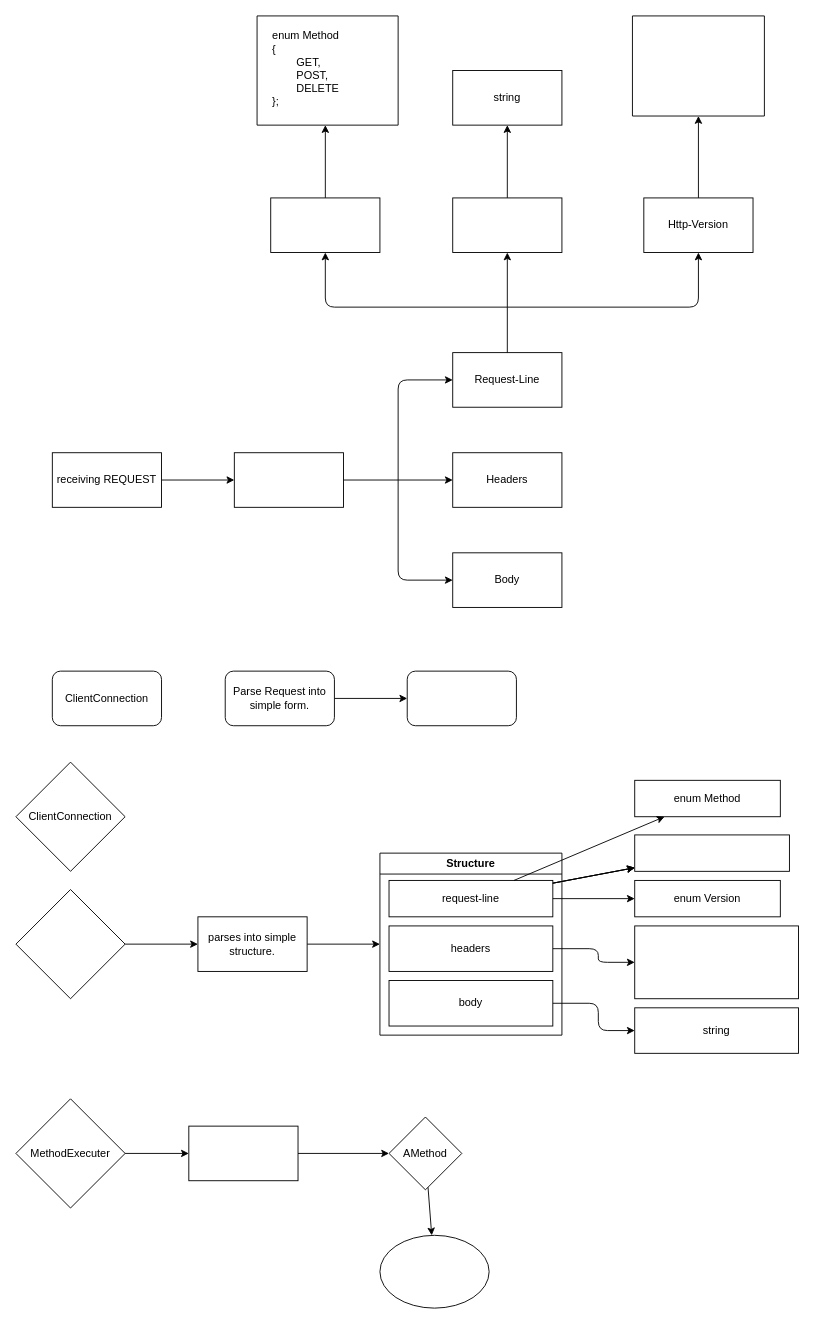
Some shapes in this 814 by 1324 pixel diagram are drawn without their labels. The shapes that lost their labels are listed below. From the top down, each one's centre as x and y in pixels, then its label:
At pixel 698 65: "enum HttpVersion { HTTP_1_0, HTTP_1_1 };".
At pixel 325 225: "Method".
At pixel 507 225: "Request-URI".
At pixel 288 479: "PARSING REQUEST into simple data structure".
At pixel 461 698: "Based on method of request line".
At pixel 711 852: "string request-URI".
At pixel 70 944: "HttpRequest".
At pixel 716 962: "std::map<string head-name, vector<string> header-value> >".
At pixel 243 1153: "creates AMethod".
At pixel 434 1271: "stored in ClientConnection".
